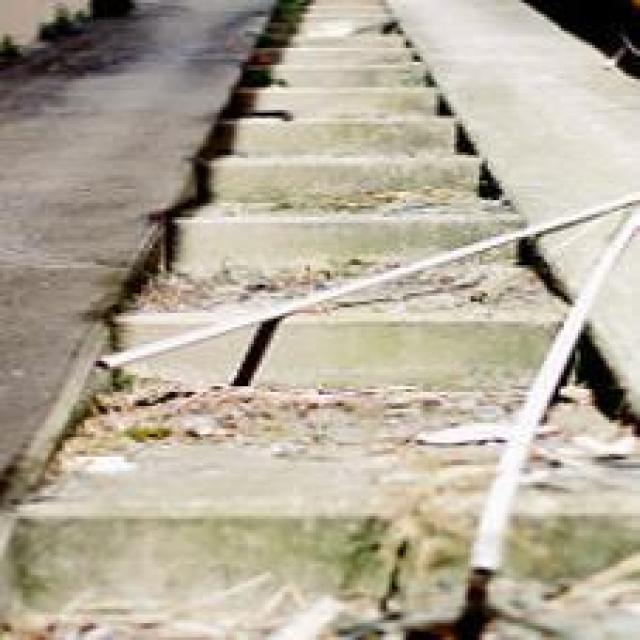upstair: (75, 170, 622, 579)
